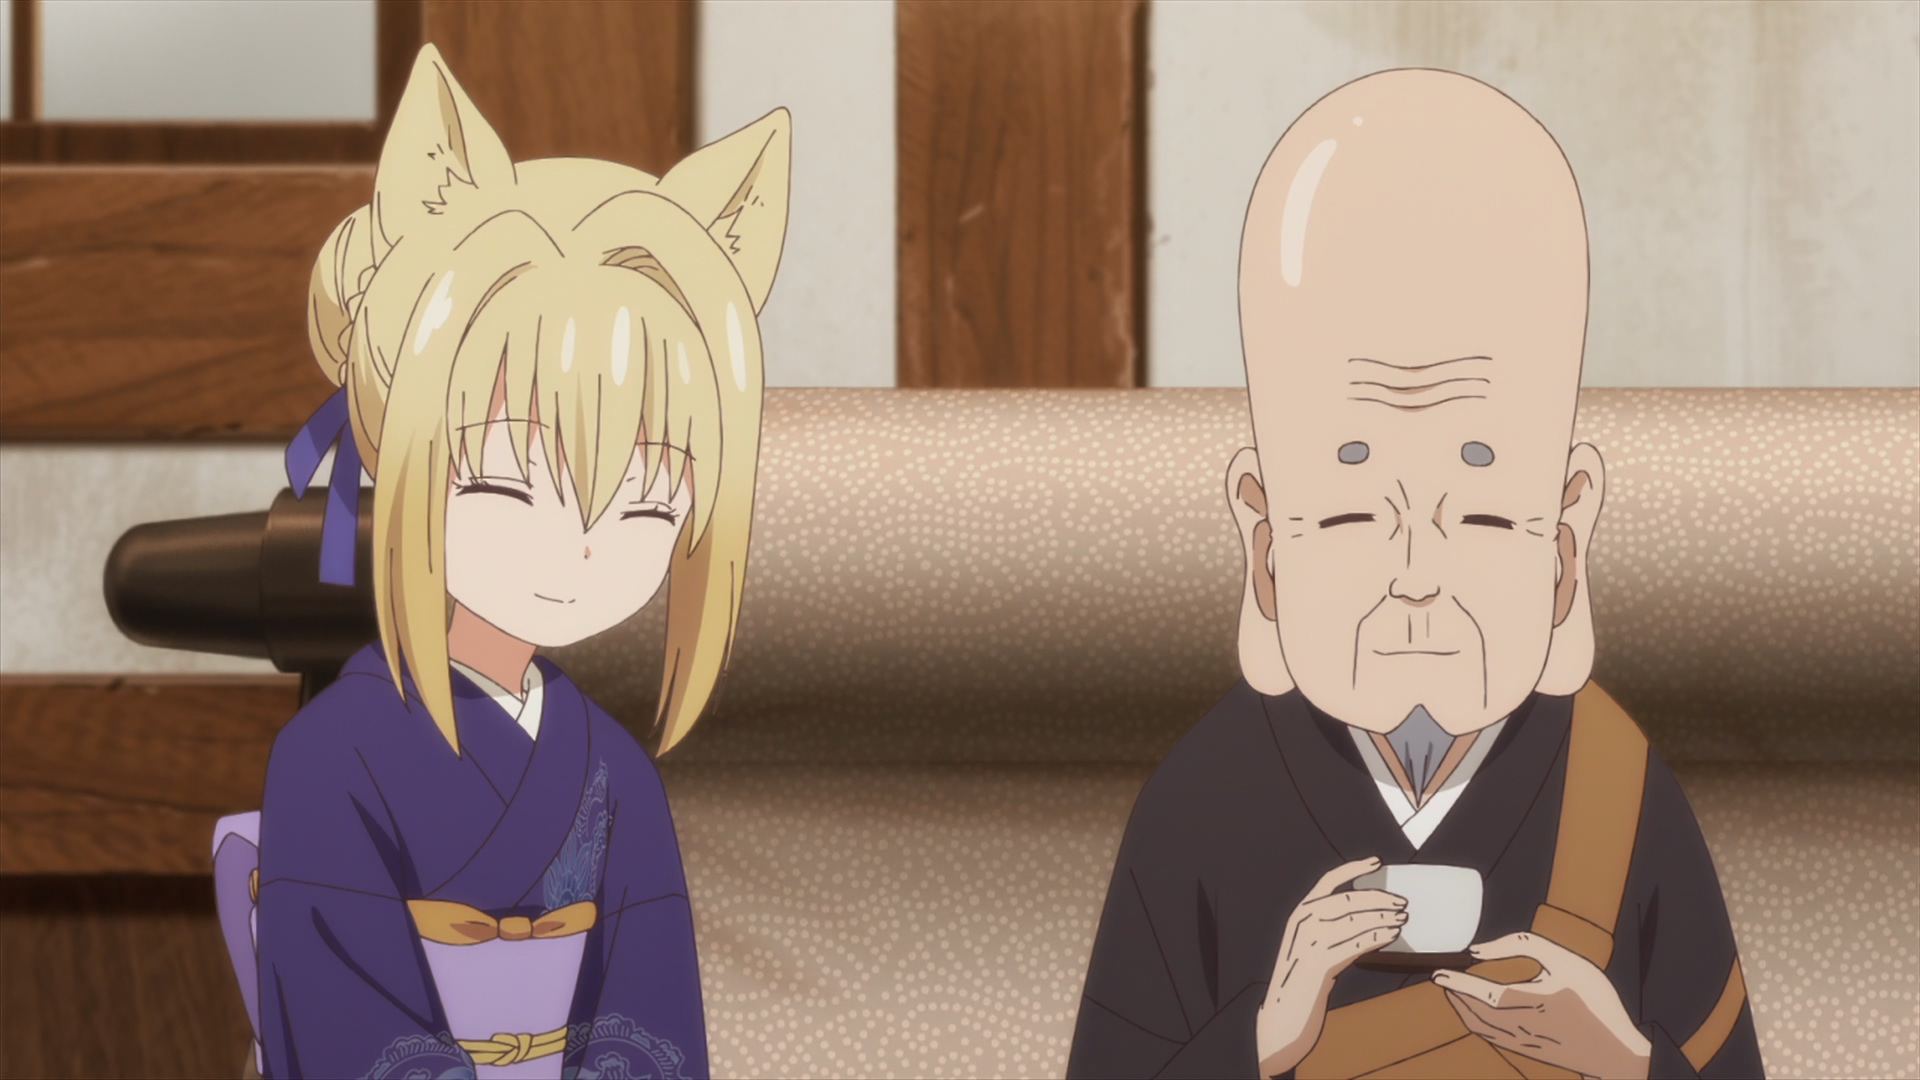其他: (1067, 69, 1762, 1080)
桐: (207, 41, 793, 1080)
